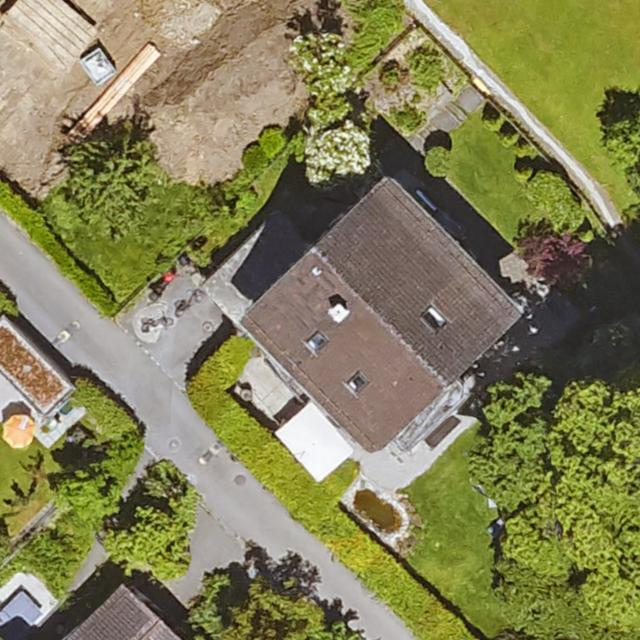tree: (475, 364, 640, 638), (68, 136, 159, 217), (220, 581, 335, 640), (103, 507, 191, 575), (604, 111, 640, 212), (53, 471, 111, 521)
